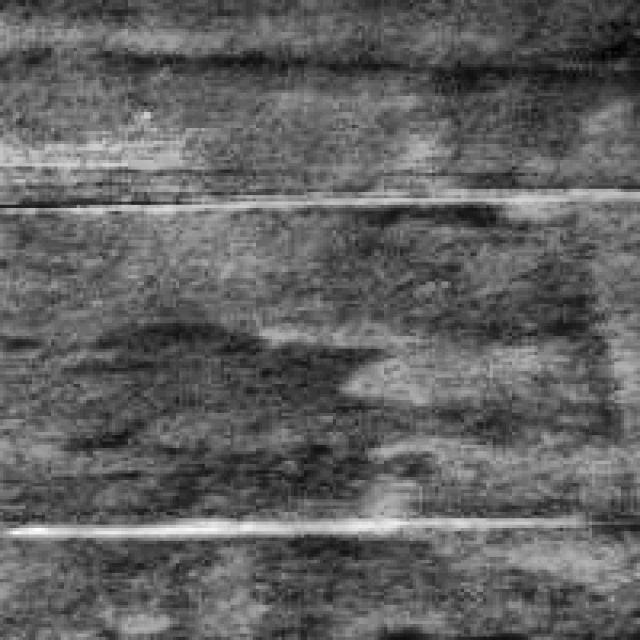Inclusion: (3, 499, 573, 544)
